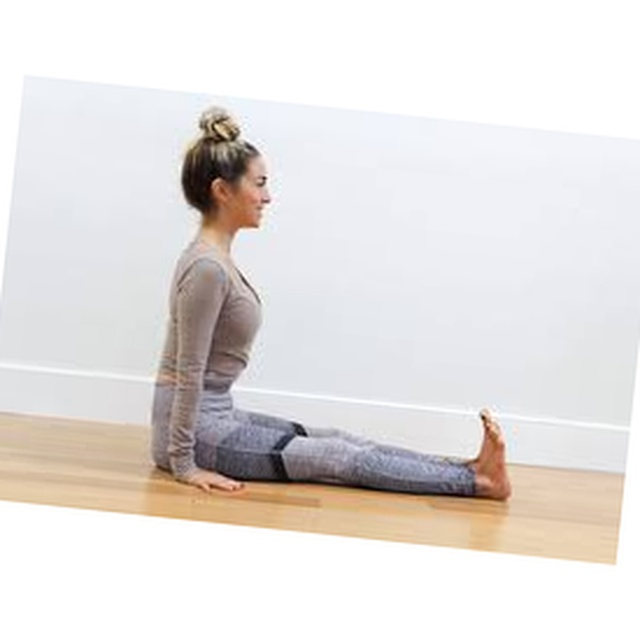Staff_Pose: (150, 106, 514, 506)
